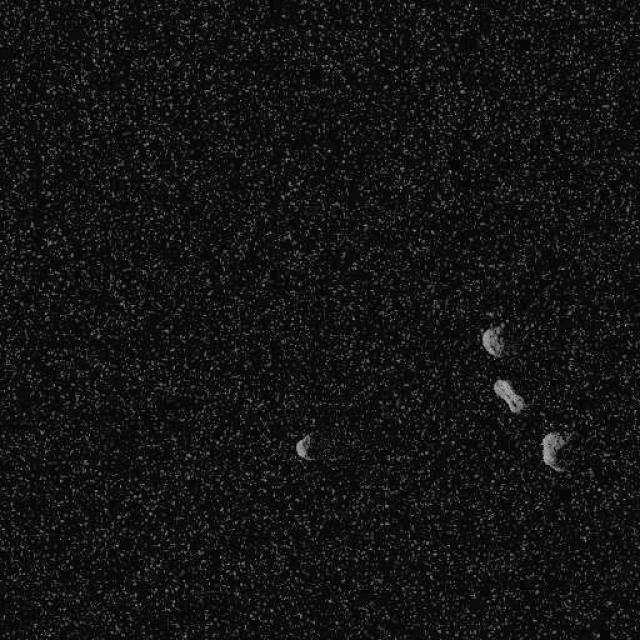D2: (491, 376, 525, 415), (538, 430, 568, 474), (480, 321, 506, 359), (294, 432, 314, 462)
